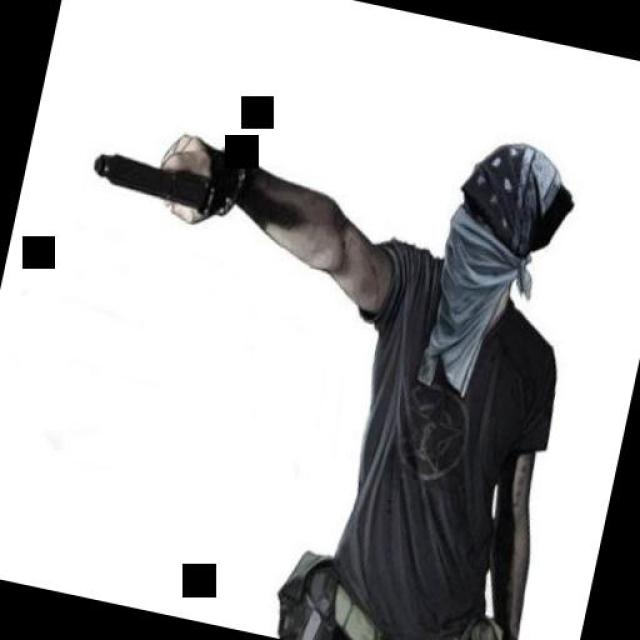gun: (85, 145, 219, 211)
